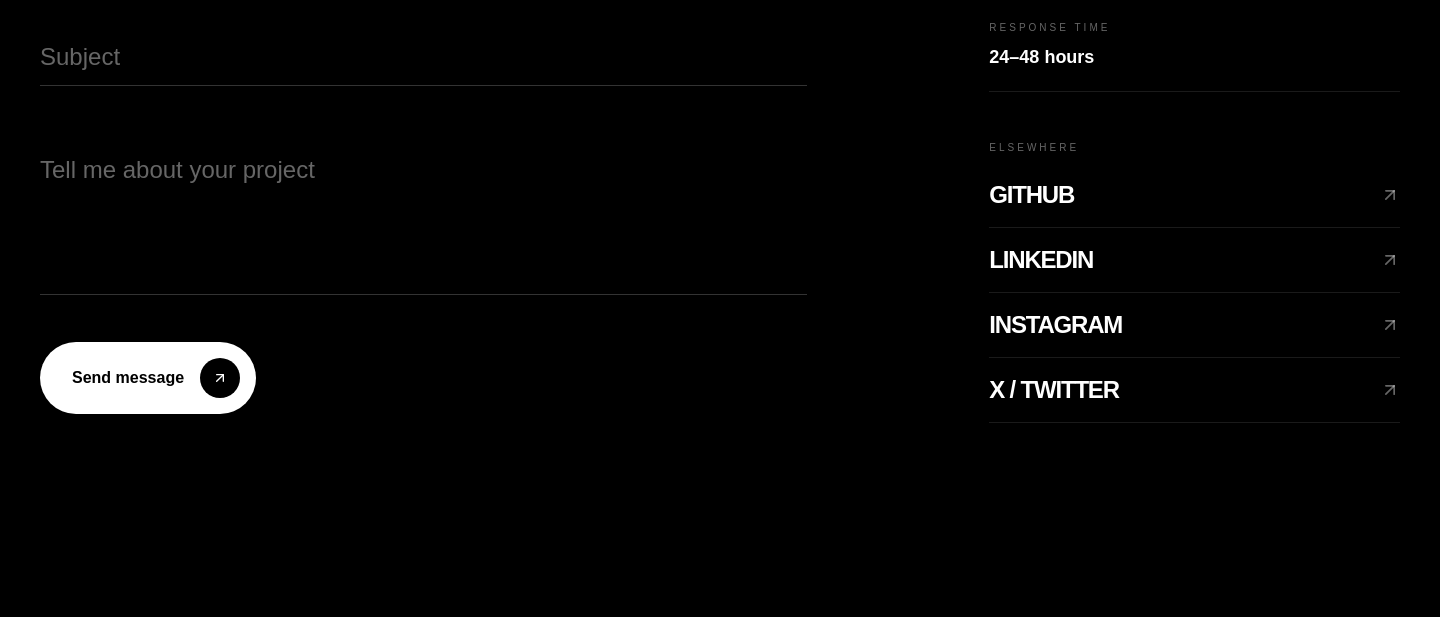
Test: Contact form › shows field errors and doesn't send when the form is incomplete
(page scrolled)
Click the button "Send message". click: (148, 378)
box: [40,342,256,414]
(page scrolled)
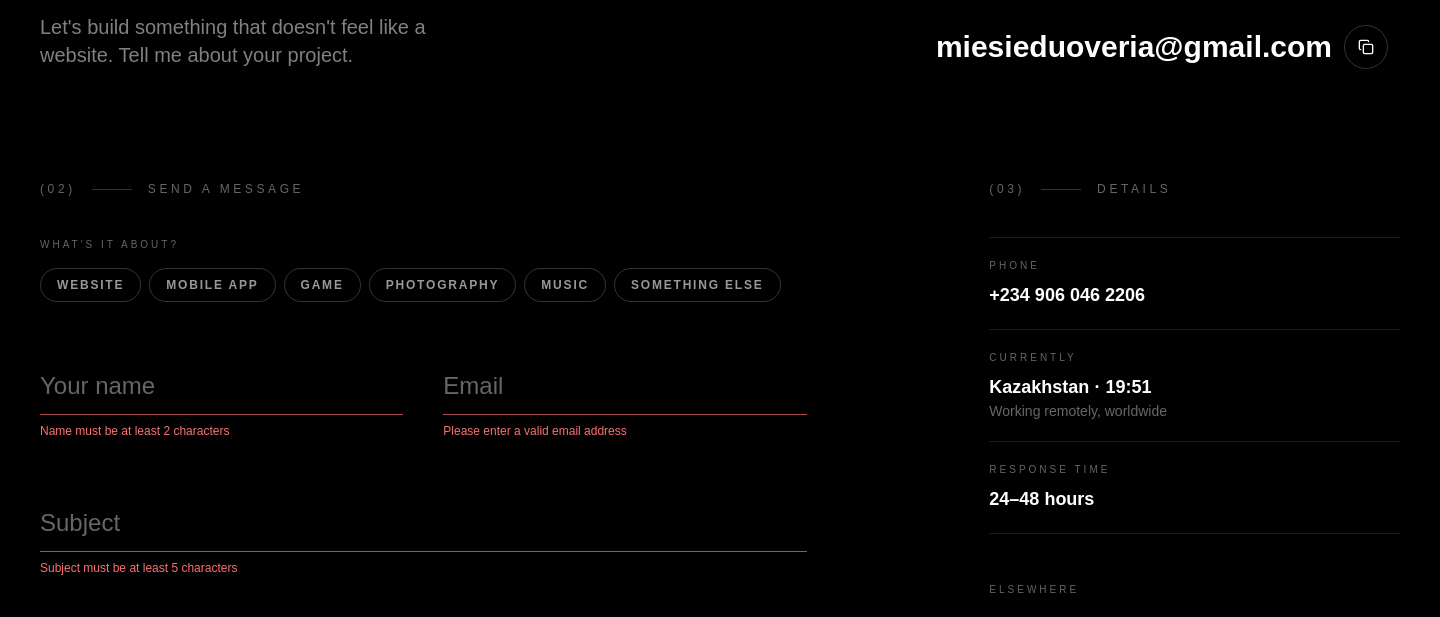
Expected: the text "Name must be at least 2 characters" is shown, [40,424,229,438]
Expected: the text "Please enter a valid email address" is shown, [443,424,627,438]
